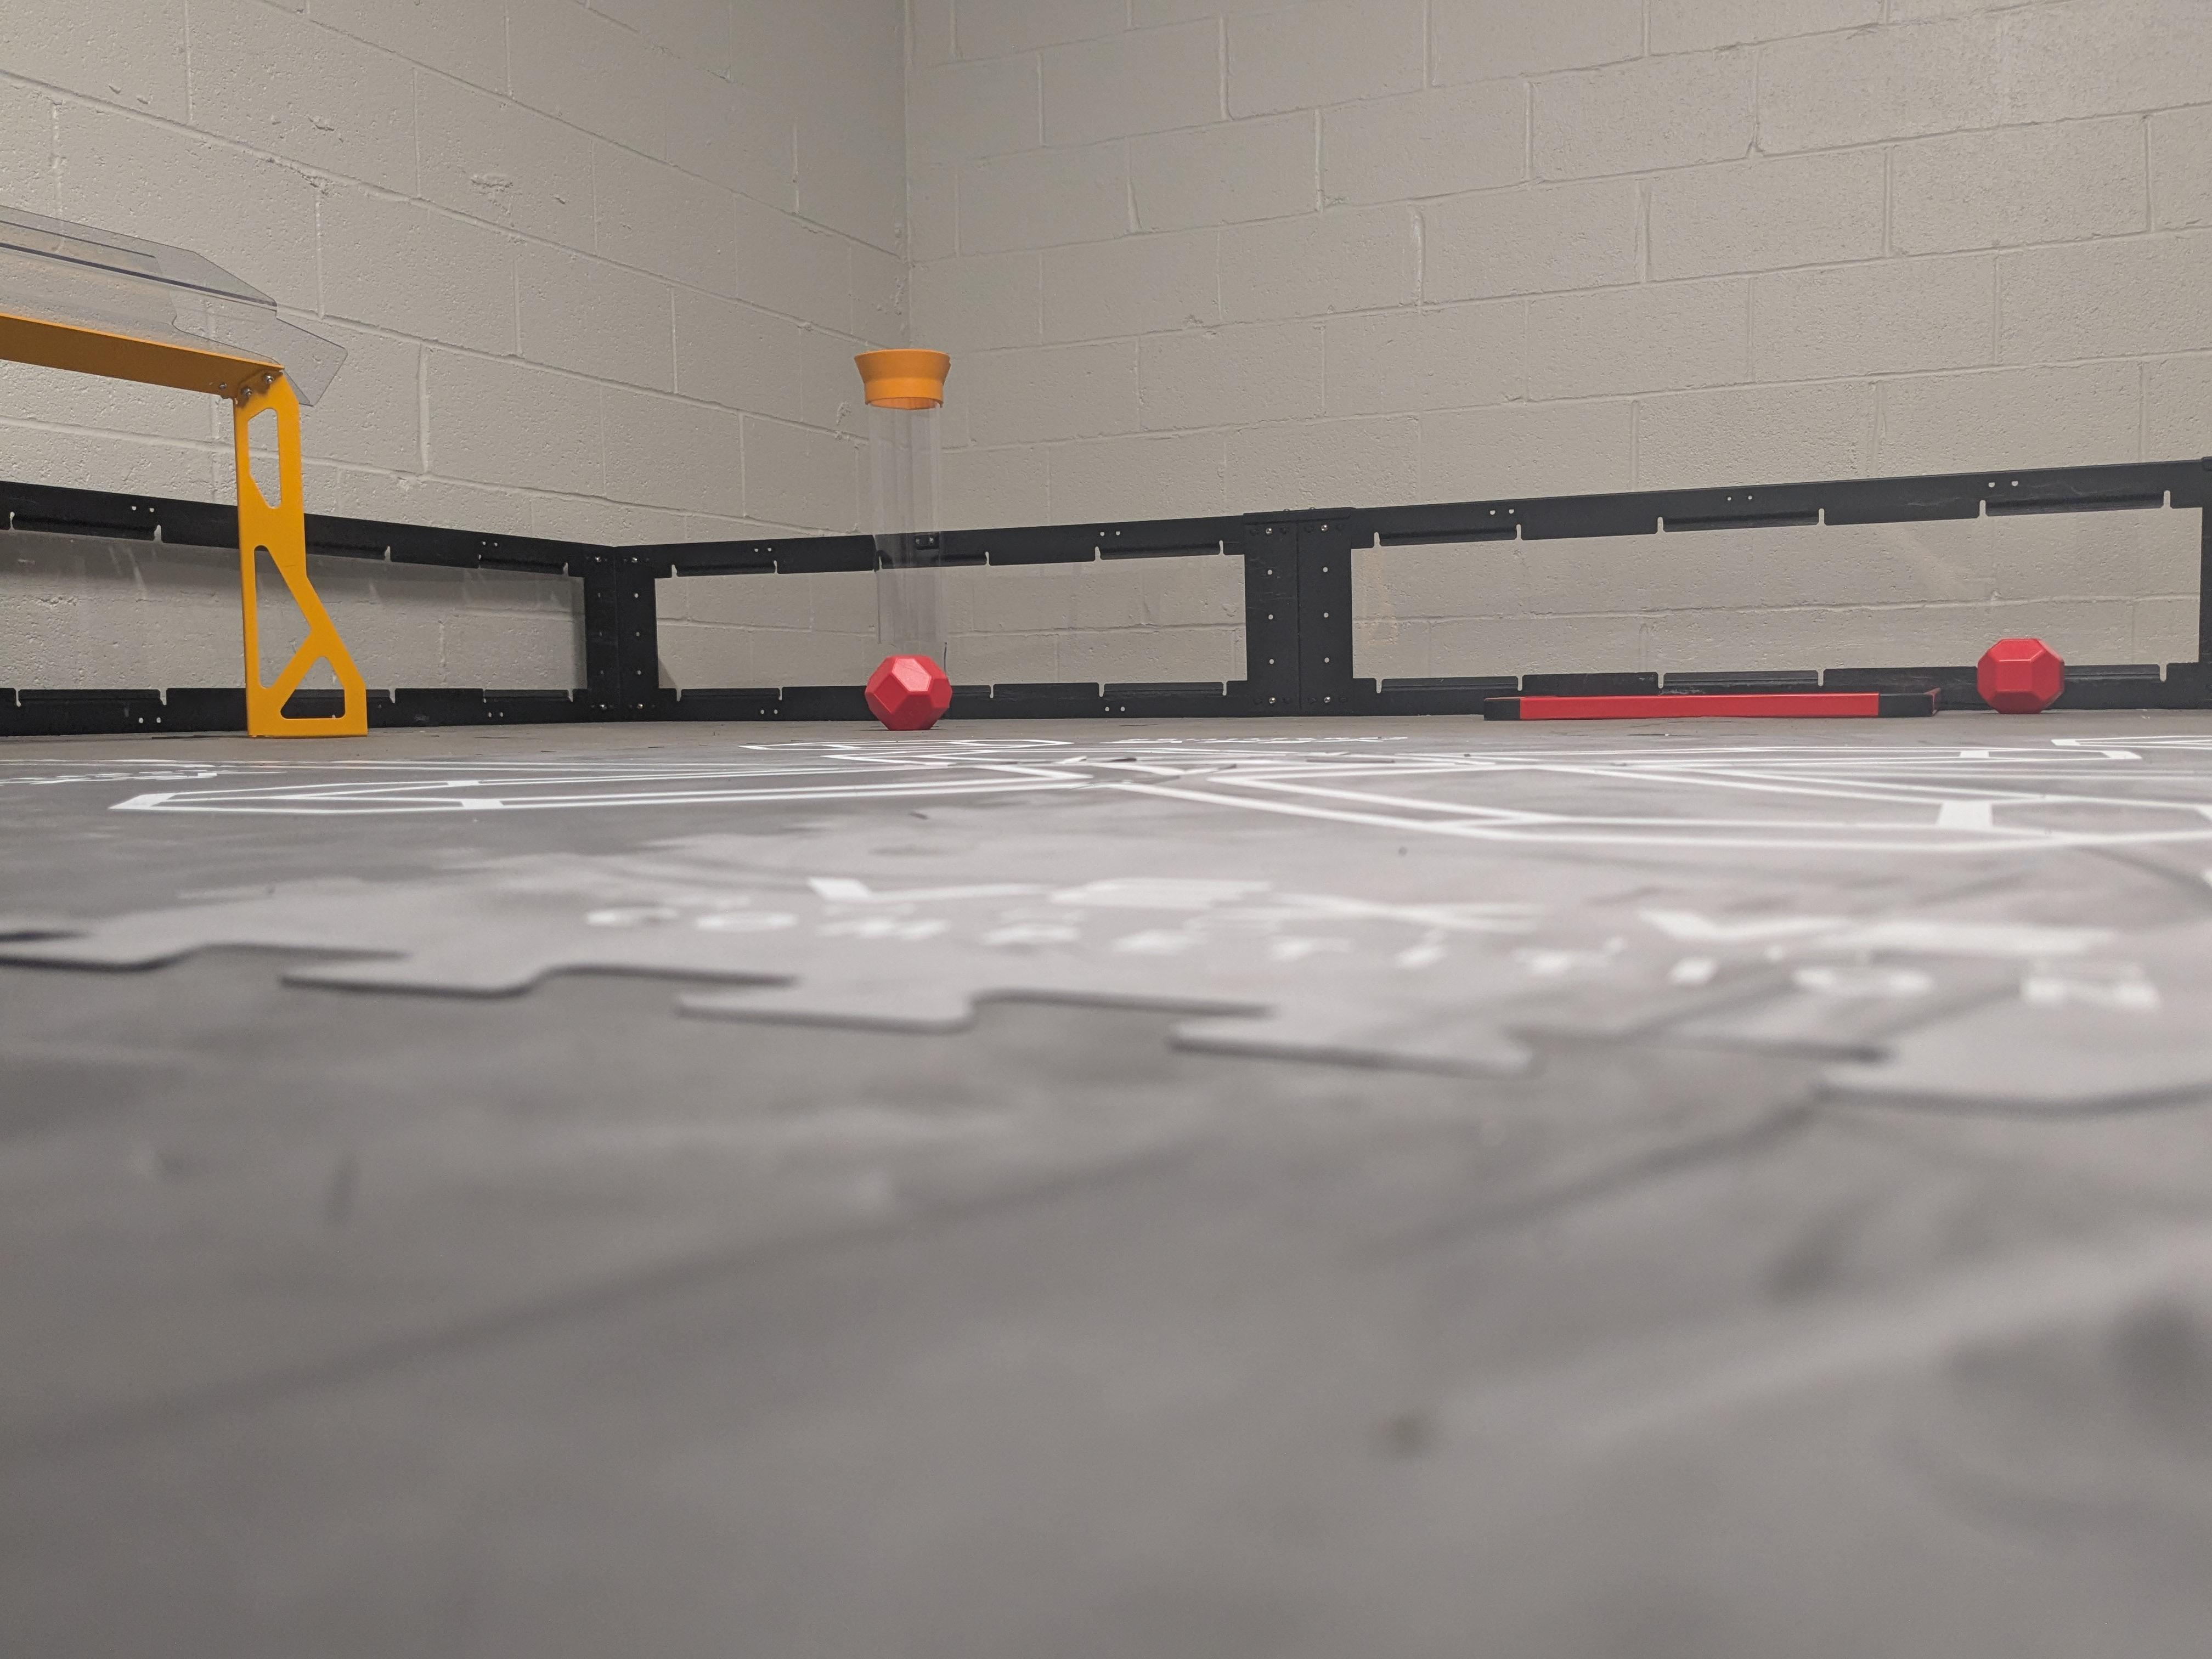Vex-Pieces-RED: (864, 655, 953, 730), (1977, 638, 2064, 713)
